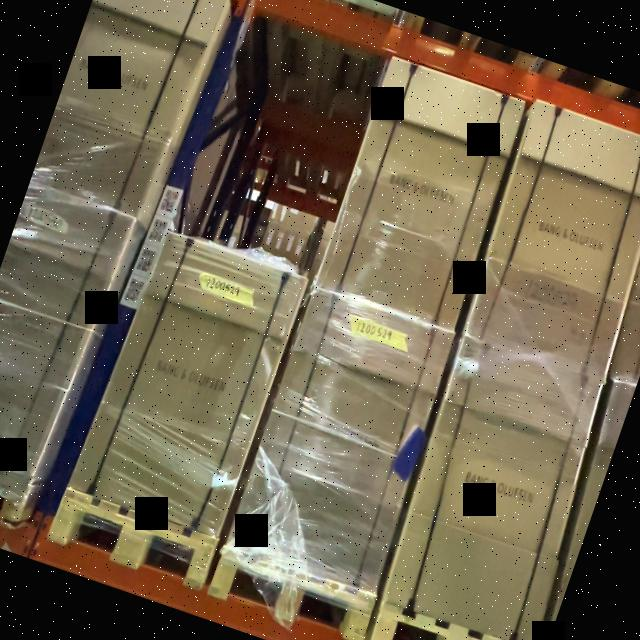box: (77, 234, 306, 536), (229, 290, 455, 590), (383, 336, 604, 636), (313, 59, 529, 334), (466, 98, 640, 375)
